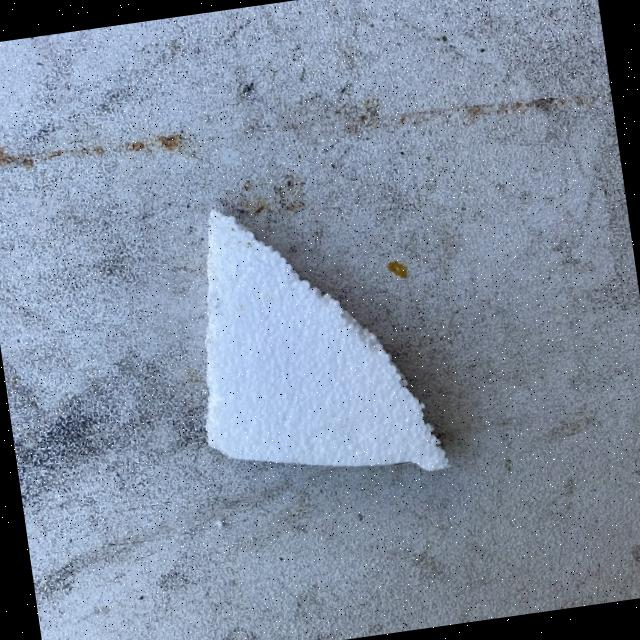styrofoam: (173, 180, 452, 503)
